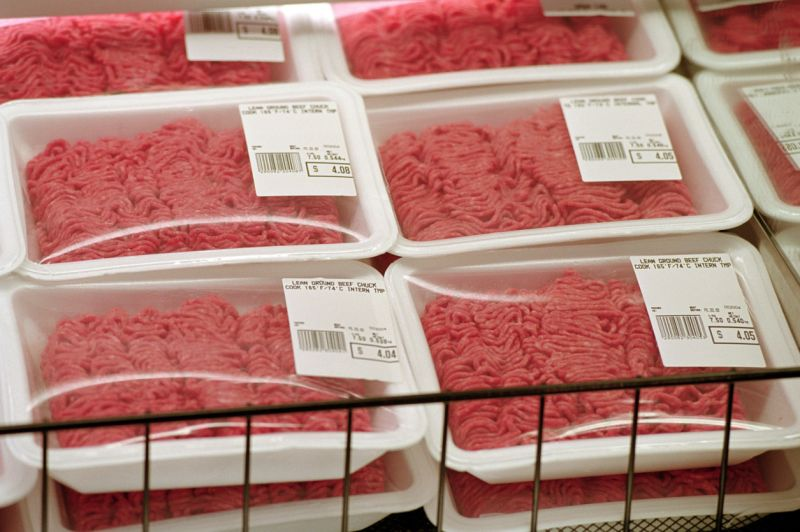ground_beef: (25, 130, 335, 244), (424, 279, 644, 410), (67, 312, 268, 422), (385, 118, 558, 220), (12, 26, 165, 98), (359, 12, 545, 66)
